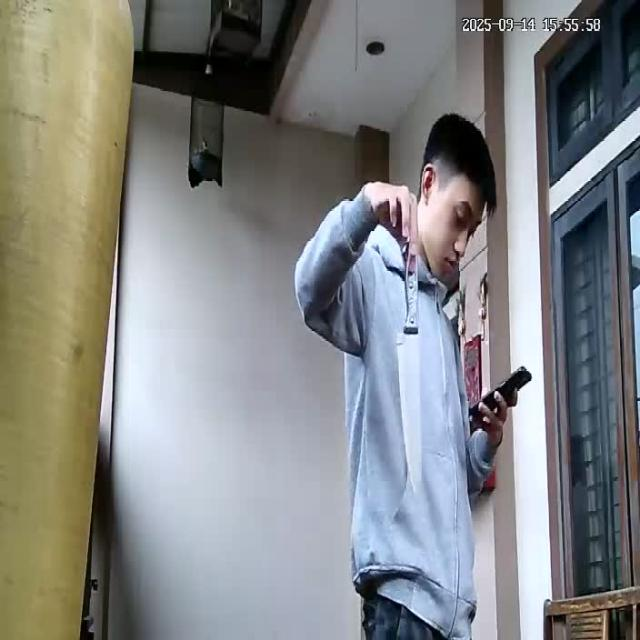senjata_tajam: (395, 258, 421, 492)
